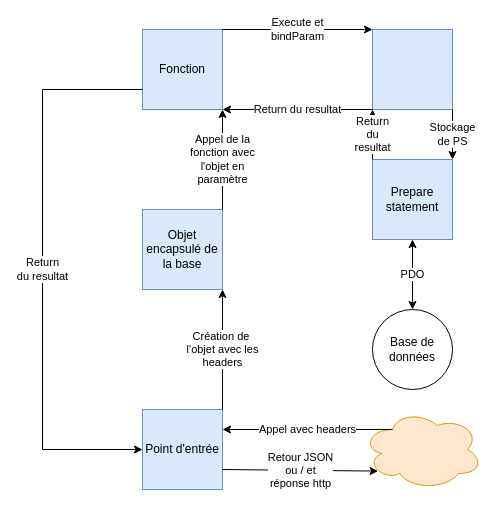
Image size: 500x508. Some labels were removed from this diagram. Each missing label, with the centre of its shape:
Application externe: (x=422, y=449)
Variable d'instance: (x=412, y=69)
